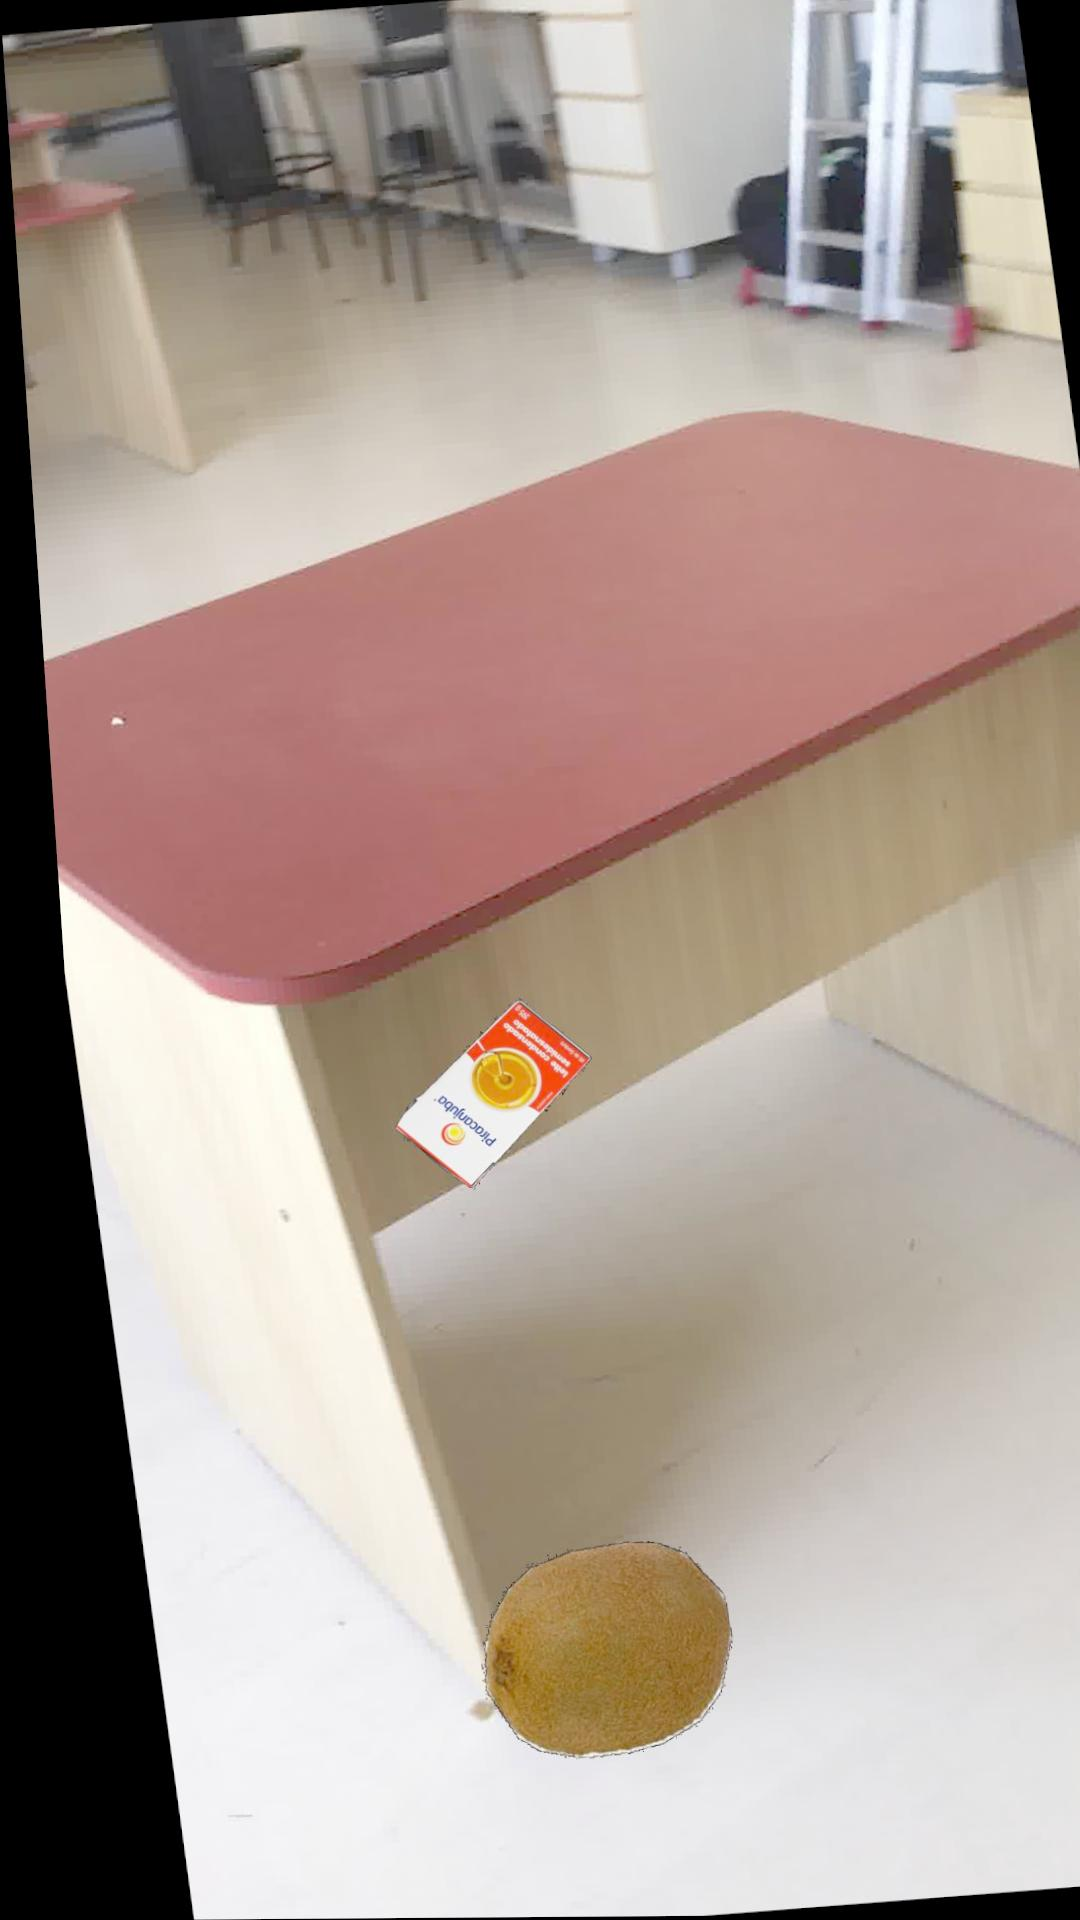kiwi: (458, 1542, 707, 1758)
